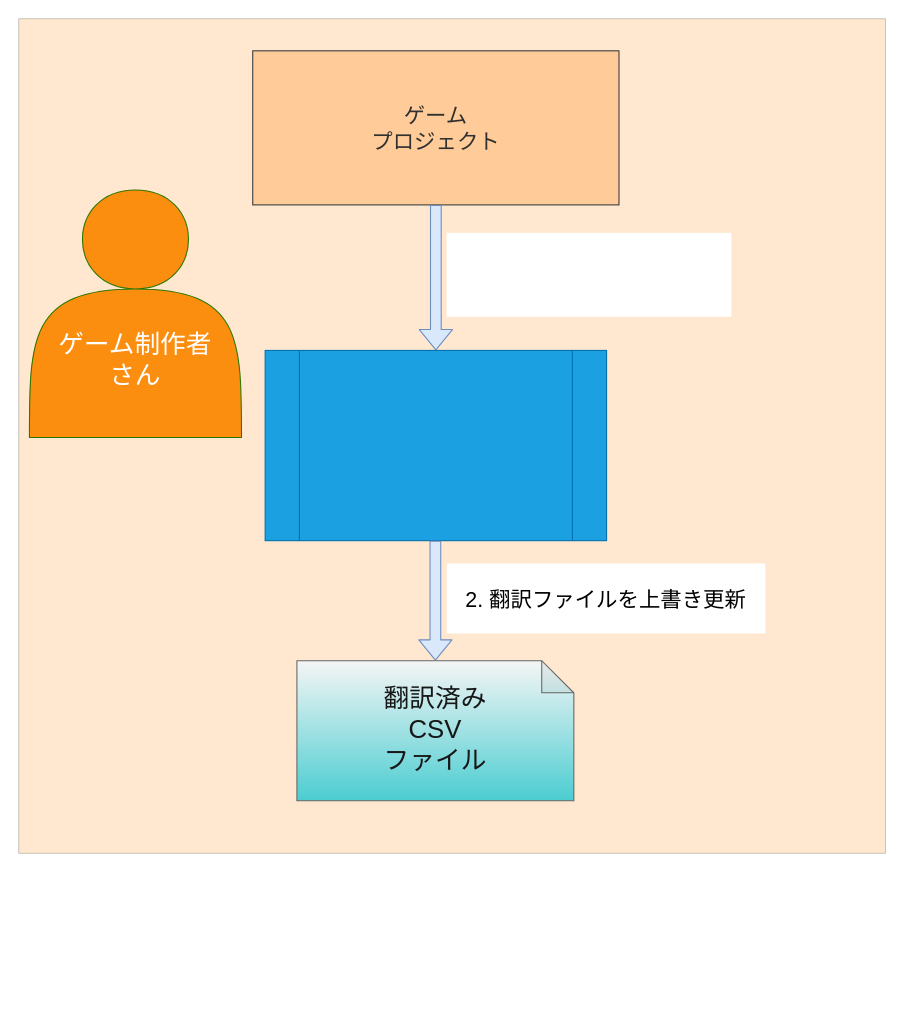
Some shapes in this 904 by 1033 pixel diagram are drawn without their labels. The shapes that lost their labels are listed below. From the top down, each one's centre as x and y in pixels, then its label:
At pixel 588 274: "1. 再解析".
At pixel 435 445: "Langscore".
